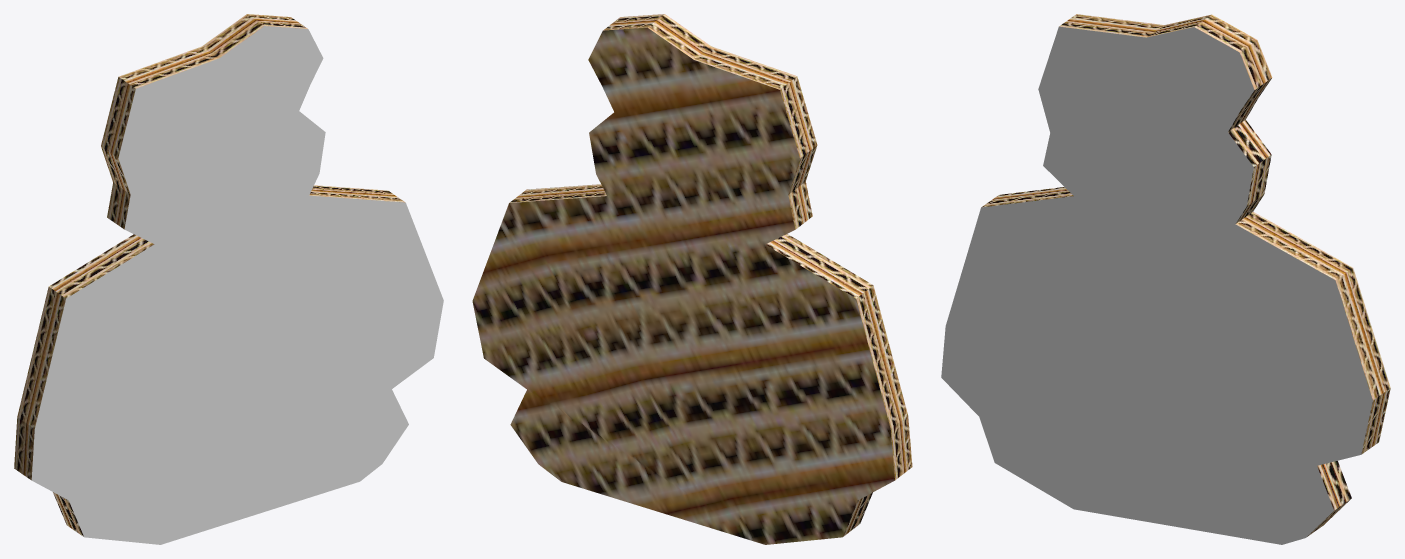
Rendered from tutorialGuy.fbx.
3 views of the same model, side by side, from view 1: azimuth 30°, elevation 25°; view 2: azimuth 150°, elevation 25°; view 3: azimuth 330°, elevation 25° (orthographic). The views are drawn at different scales.
Visible parts, largest first — view 1: Vert.009; view 2: Vert.009; view 3: Vert.009.
Boxes of the visible parts, box(x1,y1,x2,y2) form: Vert.009: box(14, 14, 443, 544); Vert.009: box(472, 14, 912, 544); Vert.009: box(941, 14, 1390, 544).
Bounding box in the file's own units: 82.47 × 92.81 × 8.12.
2 materials, 1 textured.
